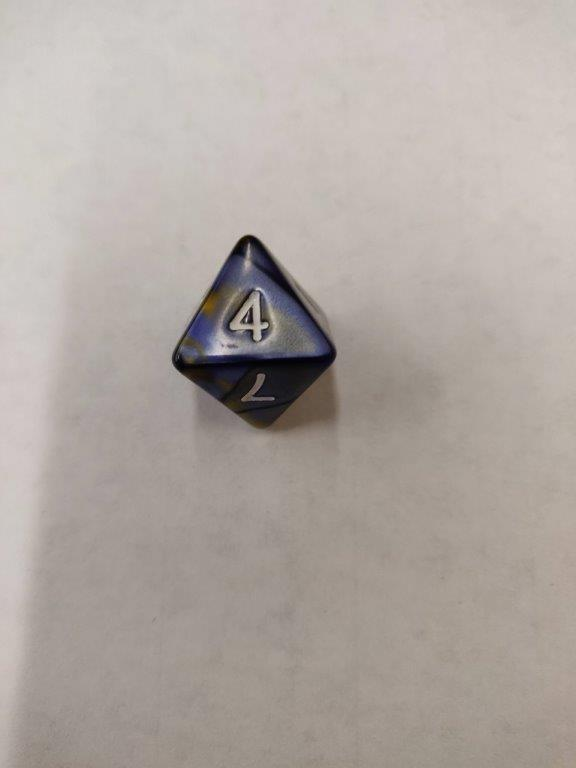d8-4: (168, 234, 337, 432)
